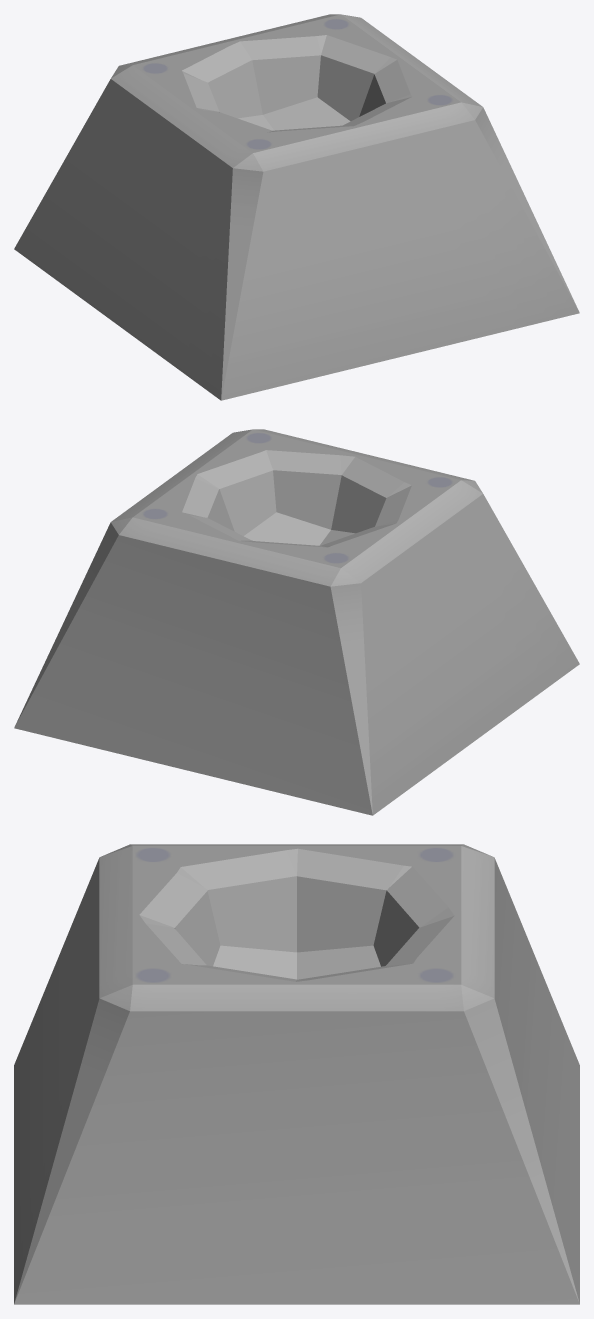
File: obj_interactive_futuristicButton_on.obj
3 renders of one model, top to bottom at view 1: azimuth 30°, elevation 25°; view 2: azimuth 150°, elevation 25°; view 3: azimuth 270°, elevation 25°, orthographic. The views are drawn at different scales.
Parts seen in each view (by area): view 1: Cube; view 2: Cube; view 3: Cube.
Part boxes in pixels (x1,y1,x2,y2): Cube: (14, 14, 579, 400); Cube: (14, 429, 579, 815); Cube: (14, 844, 579, 1304).
Bounding box in the file's own units: 0.9169 × 0.543 × 0.9169.
